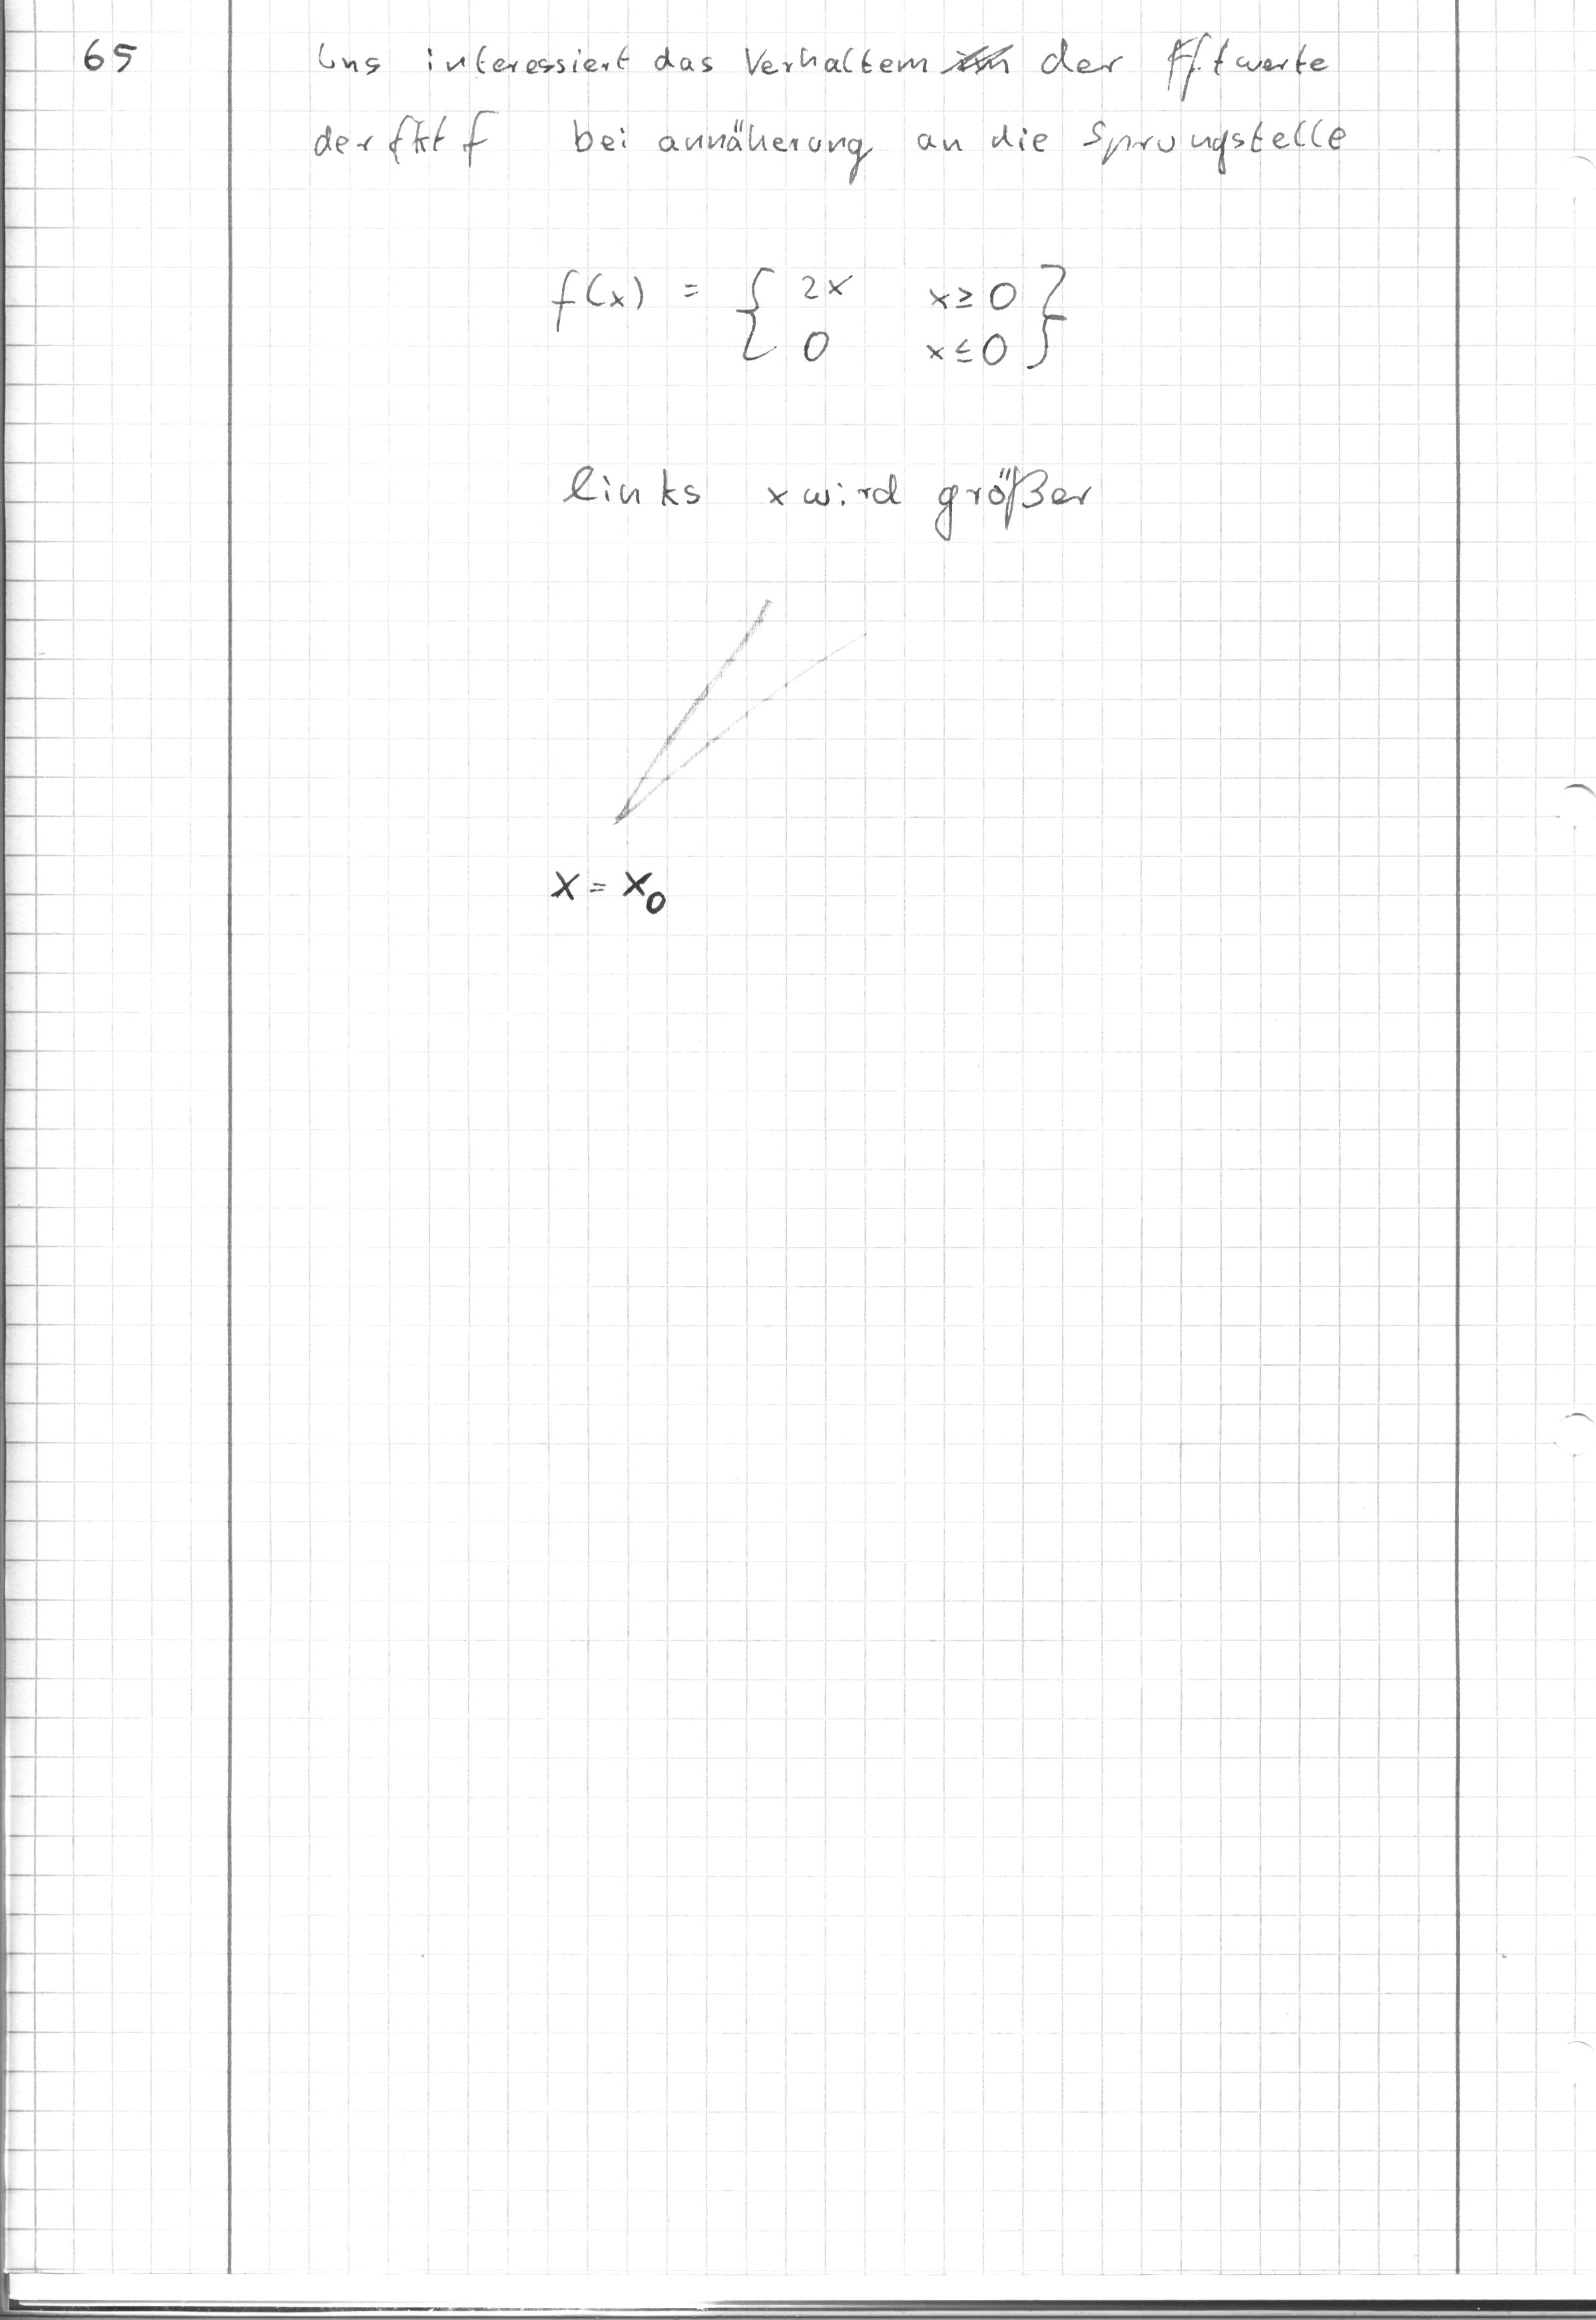word: (298, 25, 1362, 191), (544, 246, 1082, 390), (545, 445, 1098, 557), (531, 832, 691, 947)
